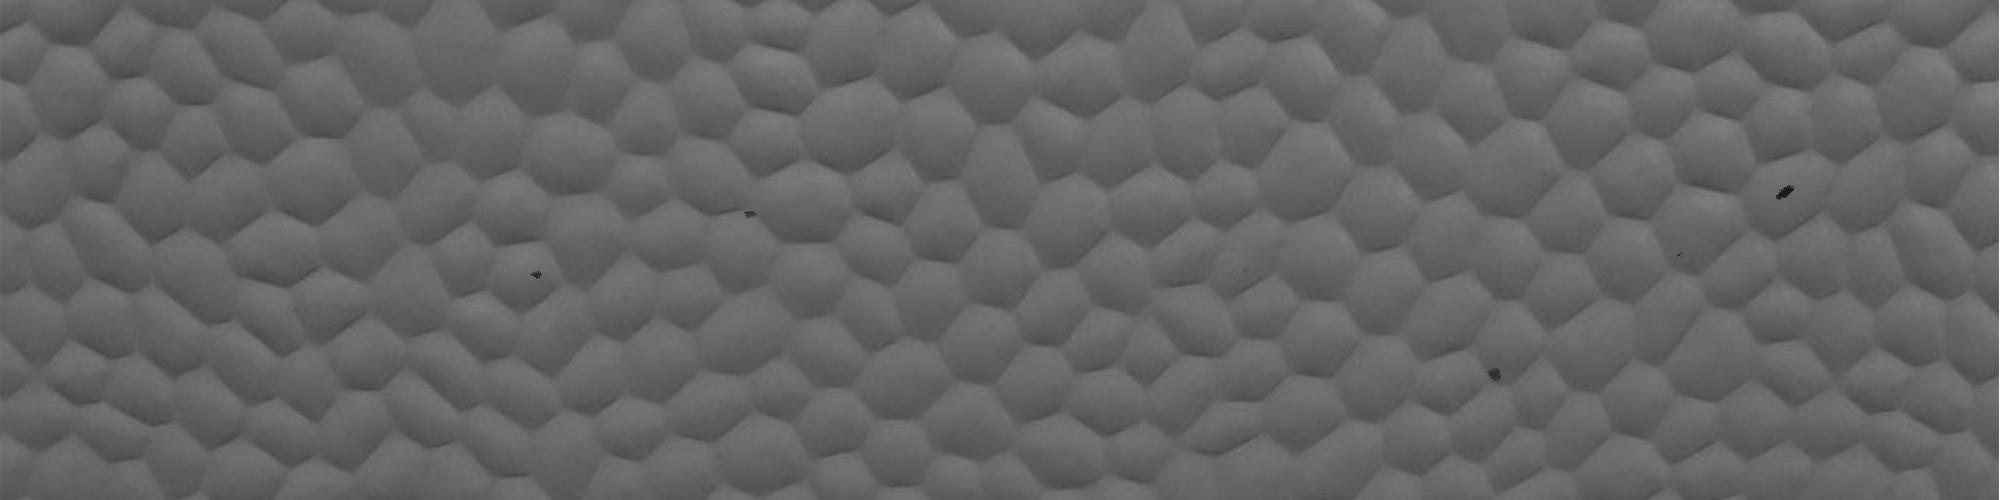Decomposed: (524, 264, 541, 293), (1483, 365, 1506, 384), (744, 204, 759, 223)
